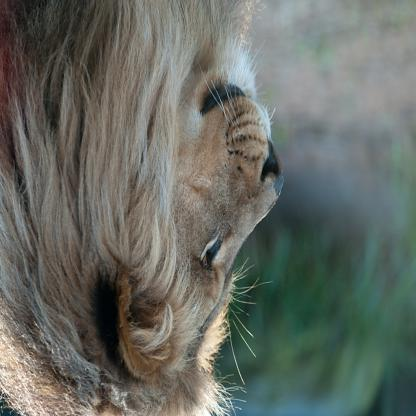lion: (24, 13, 286, 416)
